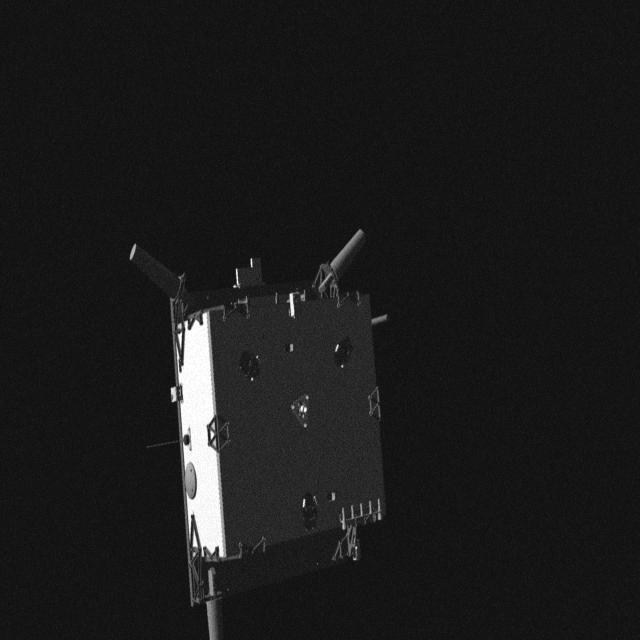satellite: (124, 224, 396, 634)
